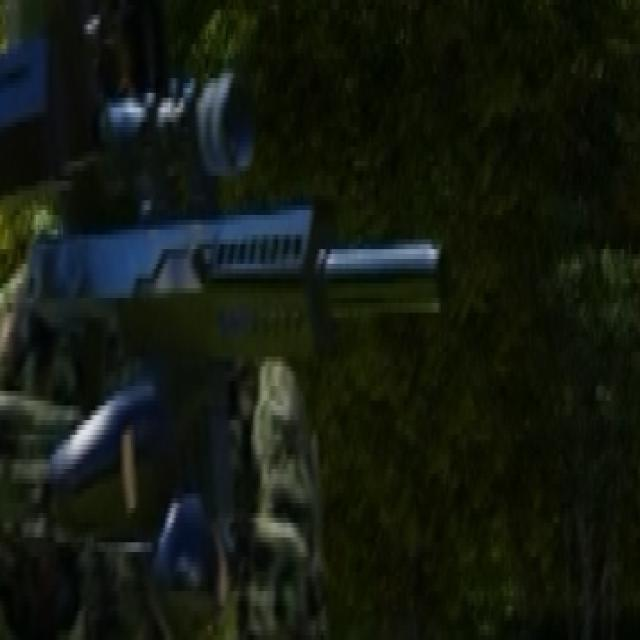RifleTel: (30, 54, 467, 519)
